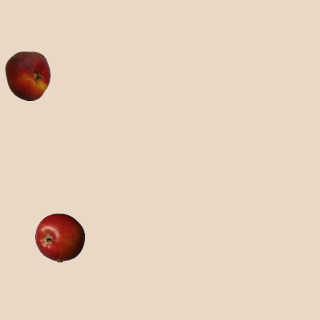Apple Braeburn: (34, 212, 84, 262)
Nectarine Flat: (2, 50, 52, 100)
